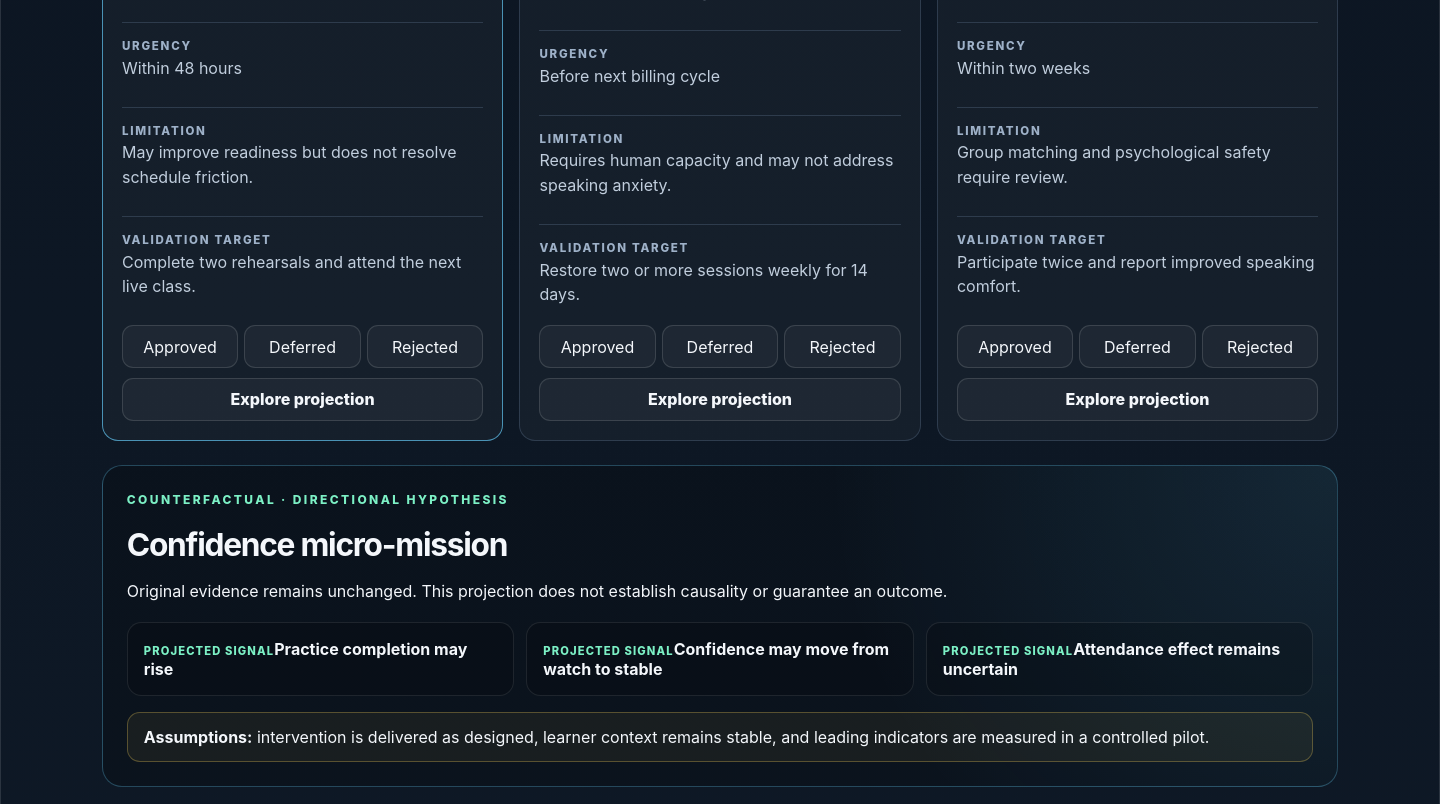
Student Digital Twin workspace › opens a directional projection without replacing original evidence
(page scrolled)
Click the button "Explore projection" below "Before next billing cycle": (720, 399) left=540, top=378, right=901, bottom=421
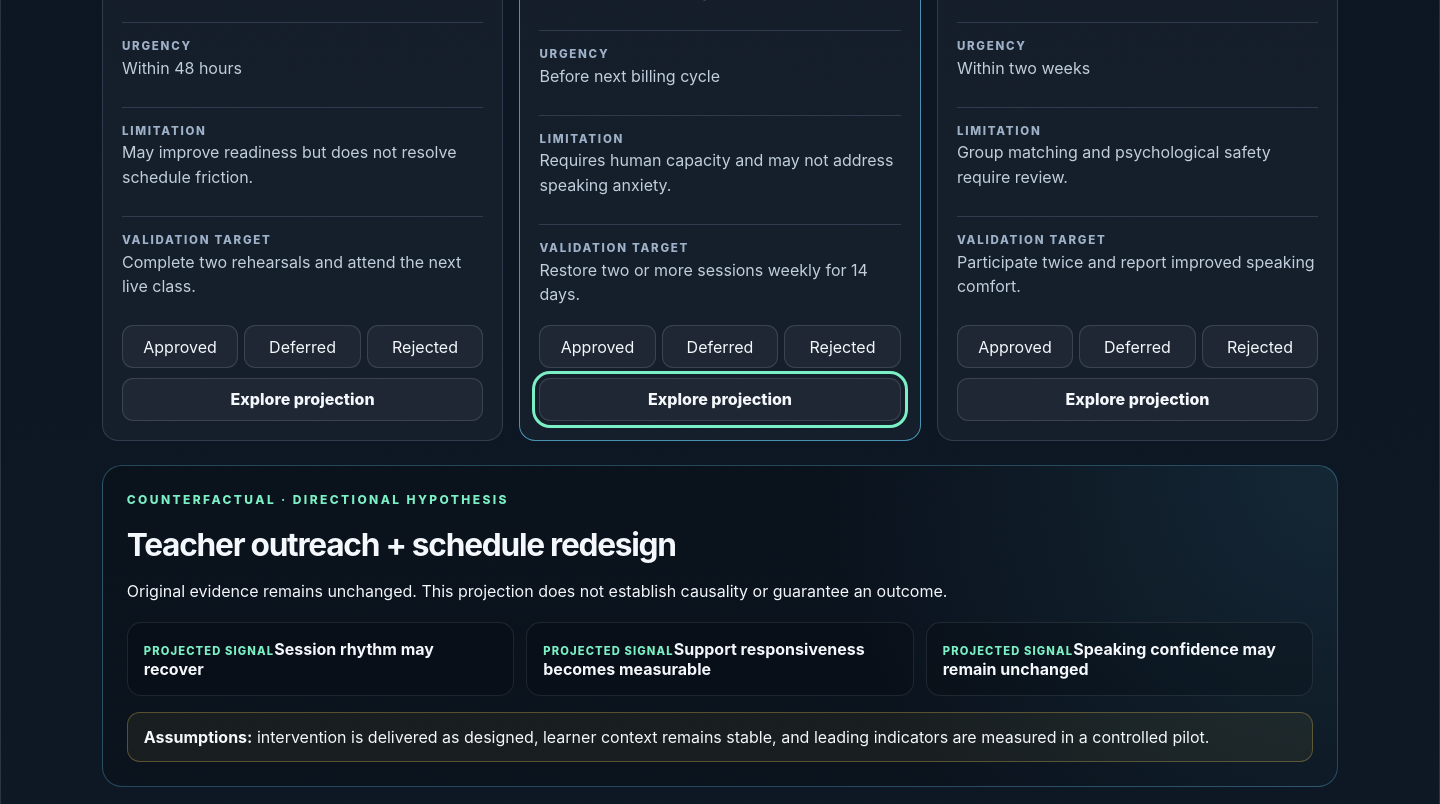
Expected: the text "does not establish causality or guarantee an outcome" is shown, left=127, top=581, right=947, bottom=601
Now the heading "Teacher outreach + schedule redesign" is shown, box left=127, top=525, right=676, bottom=564
Now the text "Session rhythm may recover" is shown, box left=144, top=639, right=434, bottom=679
